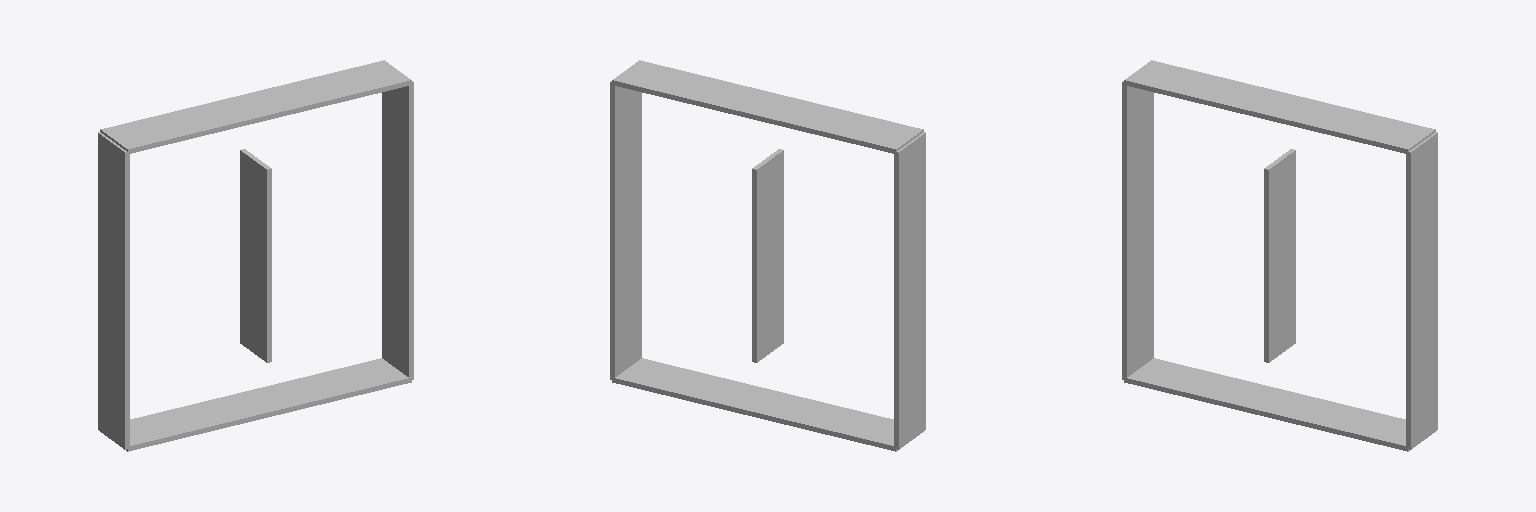
File: ddr_env0.obj
3 renders of one model, left to right at view 1: azimuth 30°, elevation 25°; view 2: azimuth 150°, elevation 25°; view 3: azimuth 330°, elevation 25°, orthographic.
Parts seen in each view (by area): view 1: Cube.002_Cube.003, Cube_Cube.001, Cube.001_Cube.002, Cube.004_Cube.005, Cube.003_Cube.004; view 2: Cube.002_Cube.003, Cube_Cube.001, Cube.001_Cube.002, Cube.004_Cube.005, Cube.003_Cube.004; view 3: Cube.001_Cube.002, Cube_Cube.001, Cube.002_Cube.003, Cube.004_Cube.005, Cube.003_Cube.004.
Part boxes in pixels (x1,y1,x2,y2): Cube.002_Cube.003: (98,132,129,449); Cube_Cube.001: (100,60,411,153); Cube.001_Cube.002: (382,81,413,380); Cube.004_Cube.005: (105,358,411,451); Cube.003_Cube.004: (240,149,271,362); Cube.002_Cube.003: (894,132,925,449); Cube_Cube.001: (612,60,923,153); Cube.001_Cube.002: (610,81,641,380); Cube.004_Cube.005: (612,358,918,451); Cube.003_Cube.004: (752,149,783,362); Cube.001_Cube.002: (1406,132,1437,449); Cube_Cube.001: (1124,60,1435,153); Cube.002_Cube.003: (1122,81,1153,380); Cube.004_Cube.005: (1124,358,1430,451); Cube.003_Cube.004: (1264,149,1295,362).
Size of the model in its own units: 6.1 by 6.1 by 1.